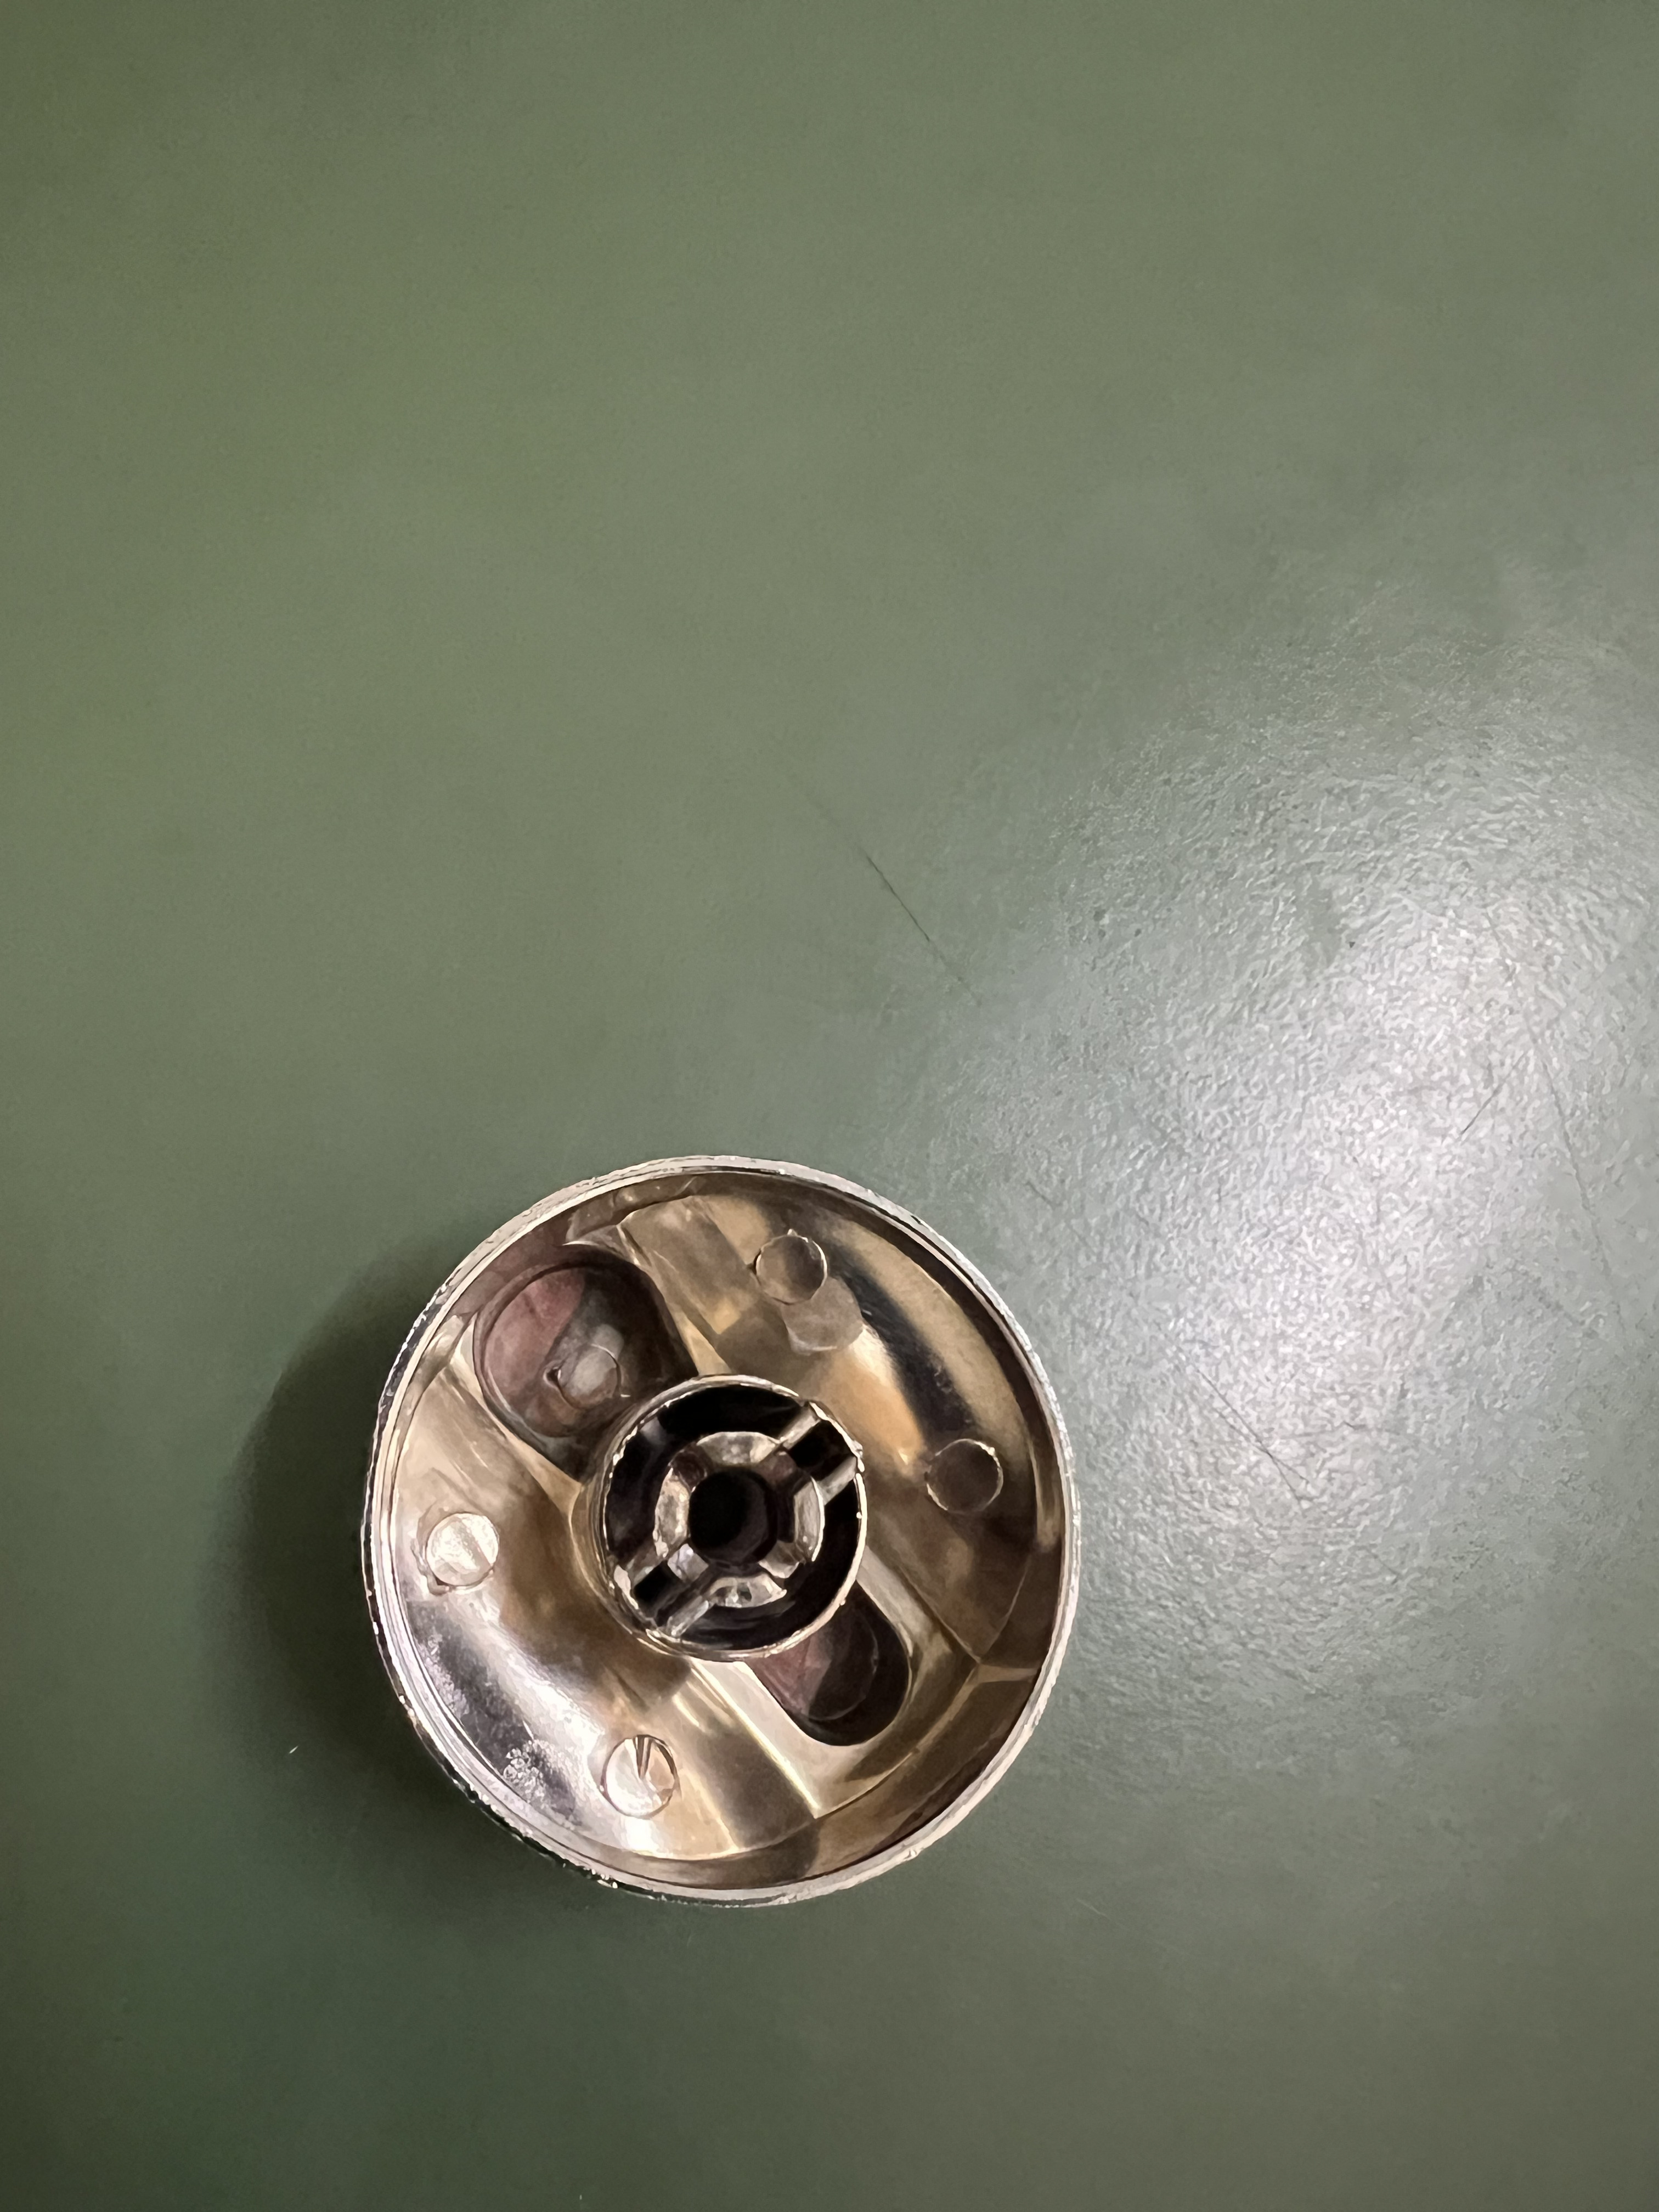regulator: (350, 1132, 1091, 1918)
